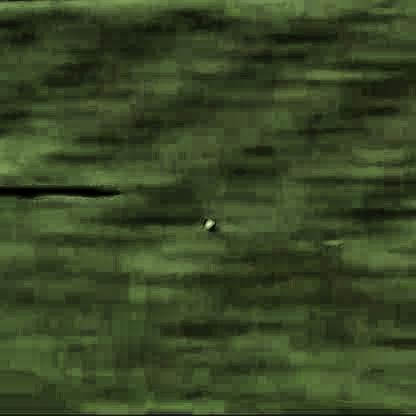golfball: (201, 218, 212, 228)
